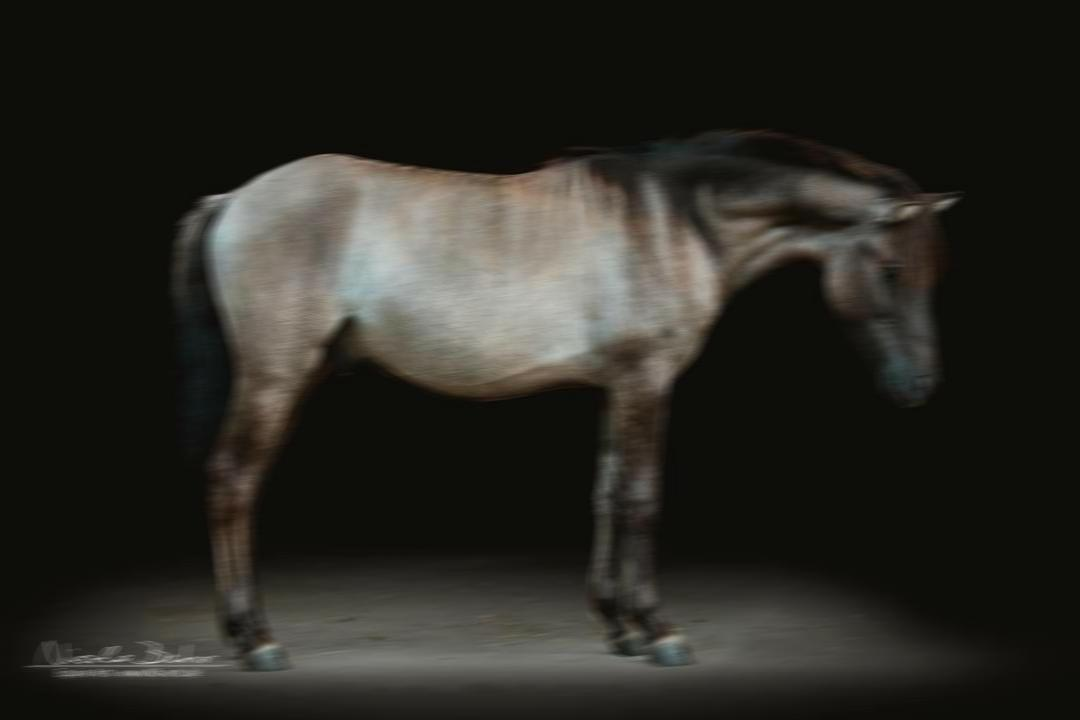horse: (169, 125, 960, 672)
